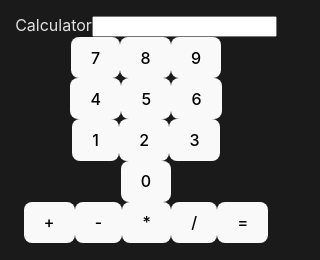
Test: Calculator › should fill input after clicking several number(s) and + and number(s)
Click the button "1" at (96, 140), box [72,119,119,161]
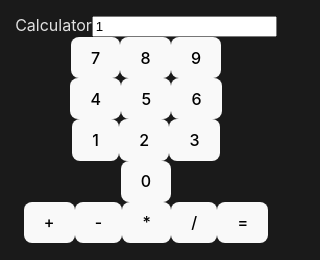
Click the button "+" at (49, 222), box [24,202,75,243]
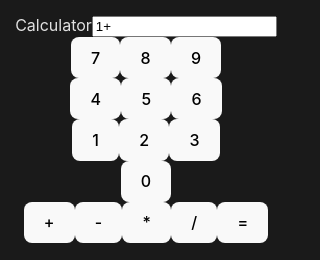
Click the button "3" at (195, 140), box [169,119,220,161]
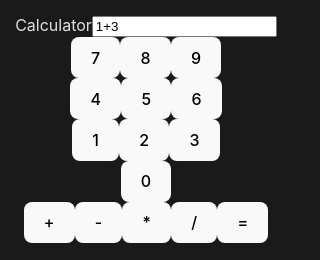
expect the field holds "1+3": met, box [92,16,277,37]
